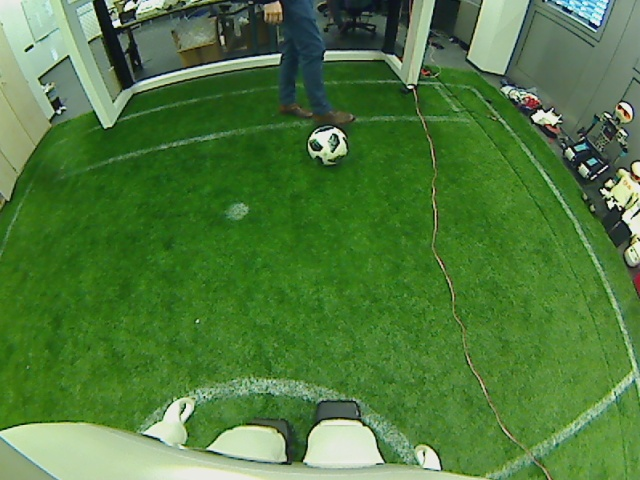ball: (305, 122, 352, 167)
